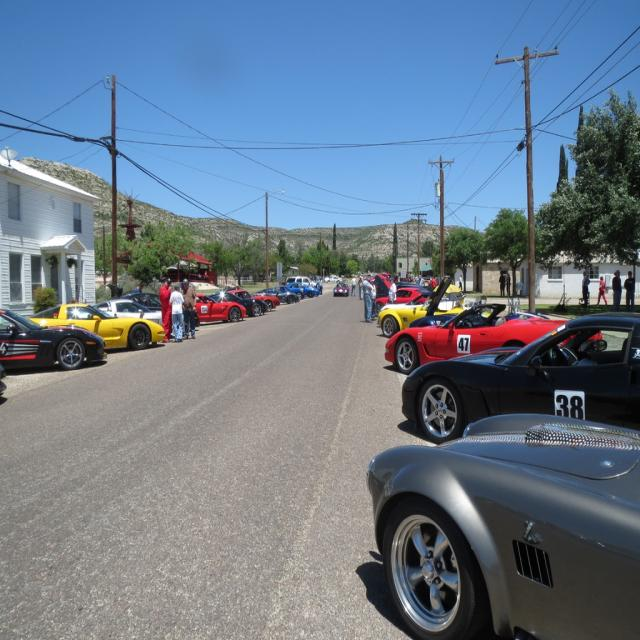car: (332, 278, 350, 294)
